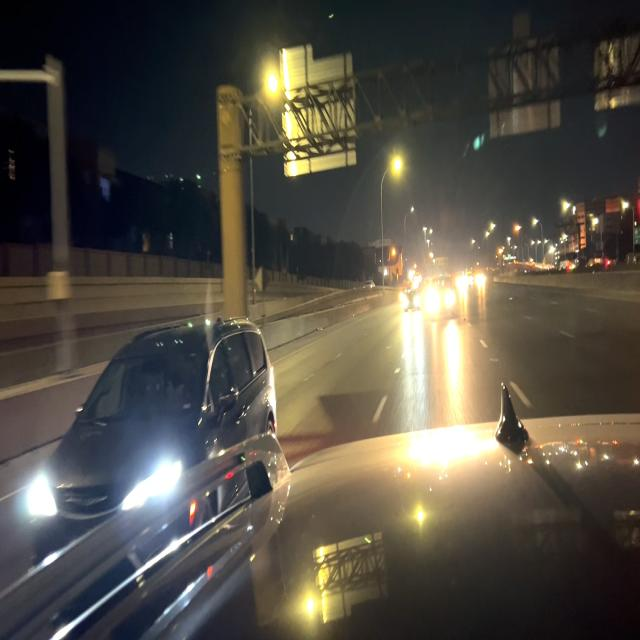back-of-sign: (280, 44, 357, 179), (486, 12, 561, 142), (592, 1, 640, 114)
